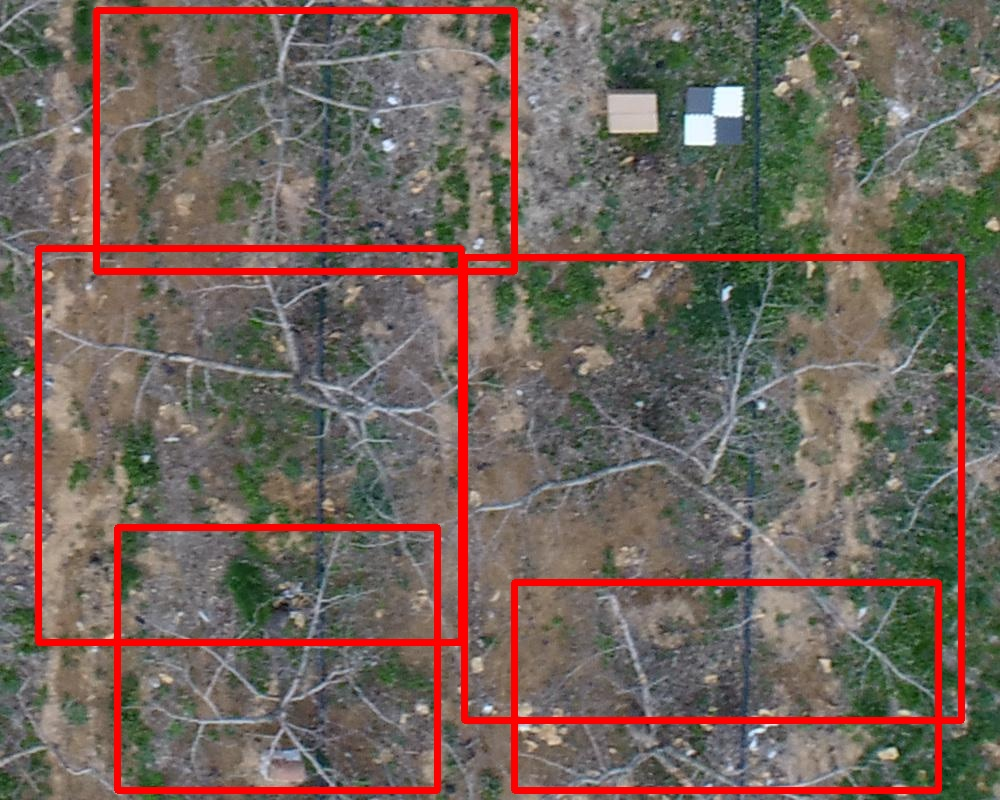apple: (464, 257, 961, 720), (38, 248, 461, 642), (96, 10, 514, 271), (514, 582, 938, 790), (117, 527, 437, 790)
